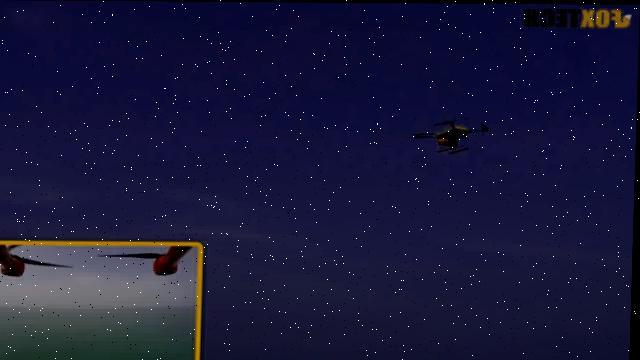drone: (409, 109, 499, 164)
